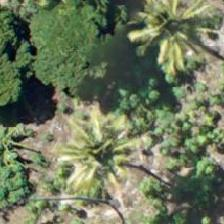Kelapa_Sawit: (56, 116, 146, 206), (45, 9, 135, 99), (129, 0, 219, 68), (0, 51, 64, 141), (176, 0, 224, 52)
